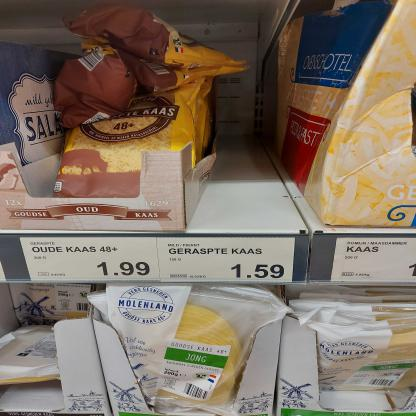prtg: (157, 238, 296, 283), (20, 238, 160, 282), (331, 238, 416, 284)
